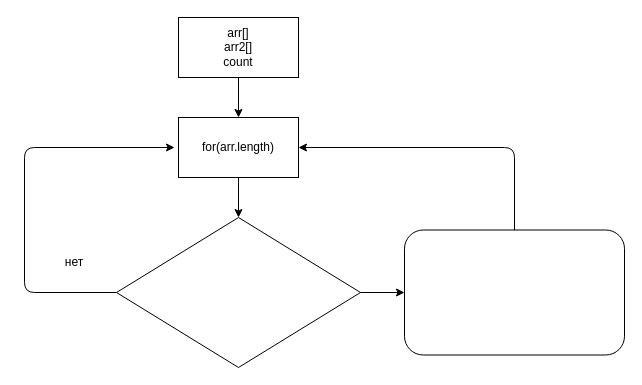
This 642x385 diagram has some shape labels left out. The shapes that lost their labels are listed below. From the top down, each one's centre as x and y in pixels, then its label:
pixel 238 292: arr[i].length <=3
pixel 514 292: arr2[ount] =arr[i] count++
